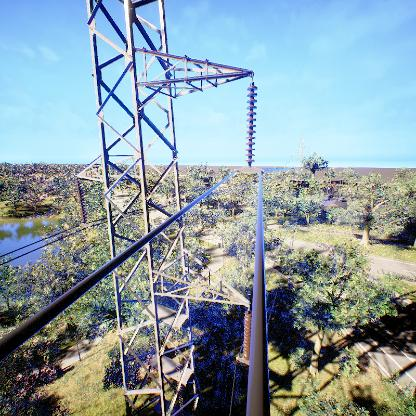insulator: (244, 82, 259, 168), (74, 182, 88, 224)
